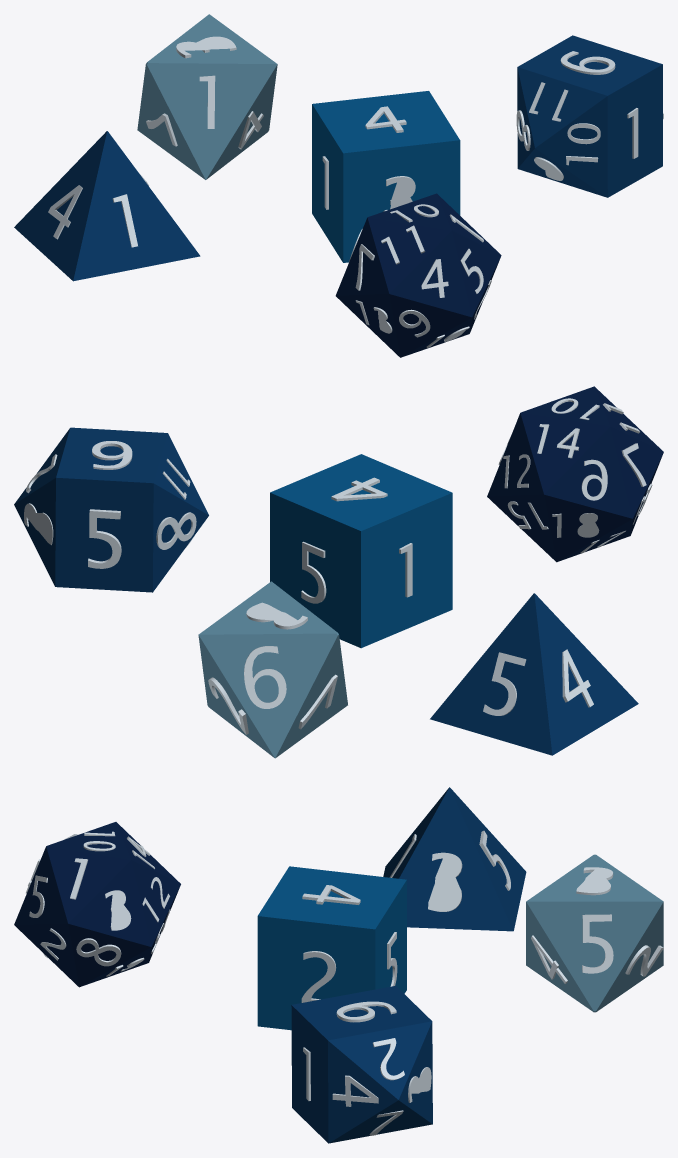
File: dice.fbx
3 renders of one model, top to bottom at view 1: azimuth 30°, elevation 25°; view 2: azimuth 150°, elevation 25°; view 3: azimuth 270°, elevation 25°, orthographic. The views are drawn at different scales.
Visible parts, largest first — view 1: DICE1; view 2: DICE1; view 3: DICE1.
Part boxes in pixels (bbox=[...]): DICE1: bbox=[14, 14, 663, 357]; DICE1: bbox=[14, 386, 663, 758]; DICE1: bbox=[14, 787, 663, 1143].
Bounding box in the file's own units: 6.9 × 1.44 × 6.67.
